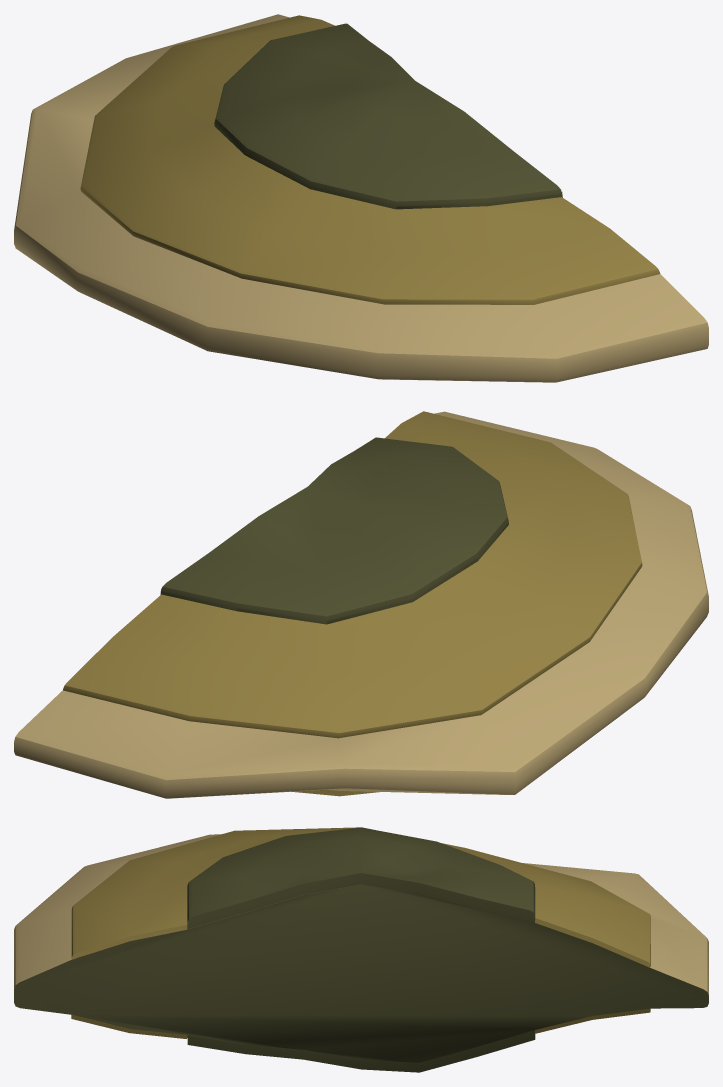
File: WideMushroom03.fbx
The picture shows the model from 3 angles, top to bottom: view 1: azimuth 30°, elevation 25°; view 2: azimuth 150°, elevation 25°; view 3: azimuth 270°, elevation 25°; orthographic projection. The views are drawn at different scales.
Visible parts, largest first — view 1: WideMushroom03_LOD0; view 2: WideMushroom03_LOD0; view 3: WideMushroom03_LOD0.
Part boxes in pixels (x1,y1,x2,y2): WideMushroom03_LOD0: (14, 14, 708, 382); WideMushroom03_LOD0: (14, 411, 708, 798); WideMushroom03_LOD0: (14, 827, 708, 1072).
Size of what is drawn, in the model's own units: 69.95 by 39.52 by 126.
